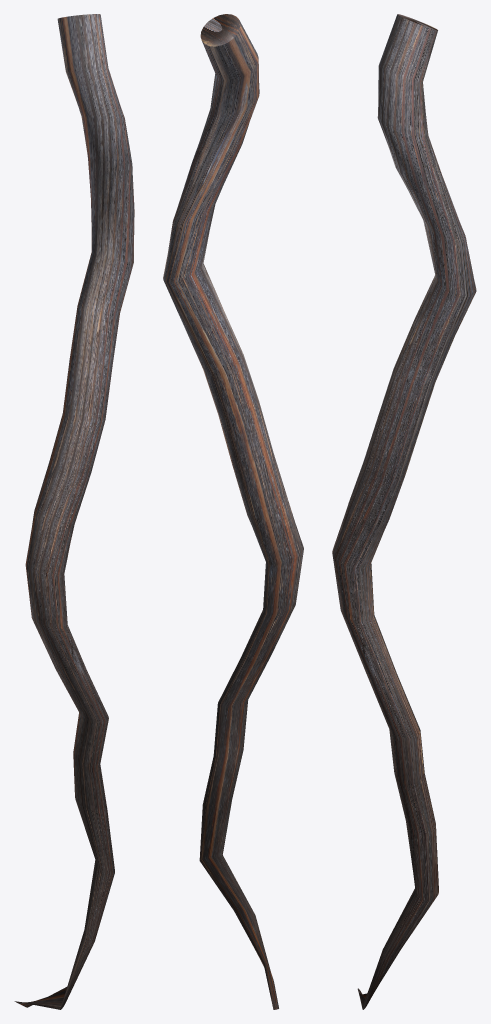
Rendered from stem1.fbx.
3 renders of one model, left to right at view 1: azimuth 30°, elevation 25°; view 2: azimuth 150°, elevation 25°; view 3: azimuth 330°, elevation 25°, orthographic. The views are drawn at different scales.
Visible parts, largest first — view 1: pCylinder12; view 2: pCylinder12; view 3: pCylinder12.
Part boxes in pixels (box(x1,y1,x2,y2)): pCylinder12: box(14, 14, 134, 1009); pCylinder12: box(163, 14, 303, 1009); pCylinder12: box(332, 14, 476, 1009).
Bounding box in the file's own units: 1.27 × 10.01 × 0.7904.
Materials: 1 (1 with a texture image).
